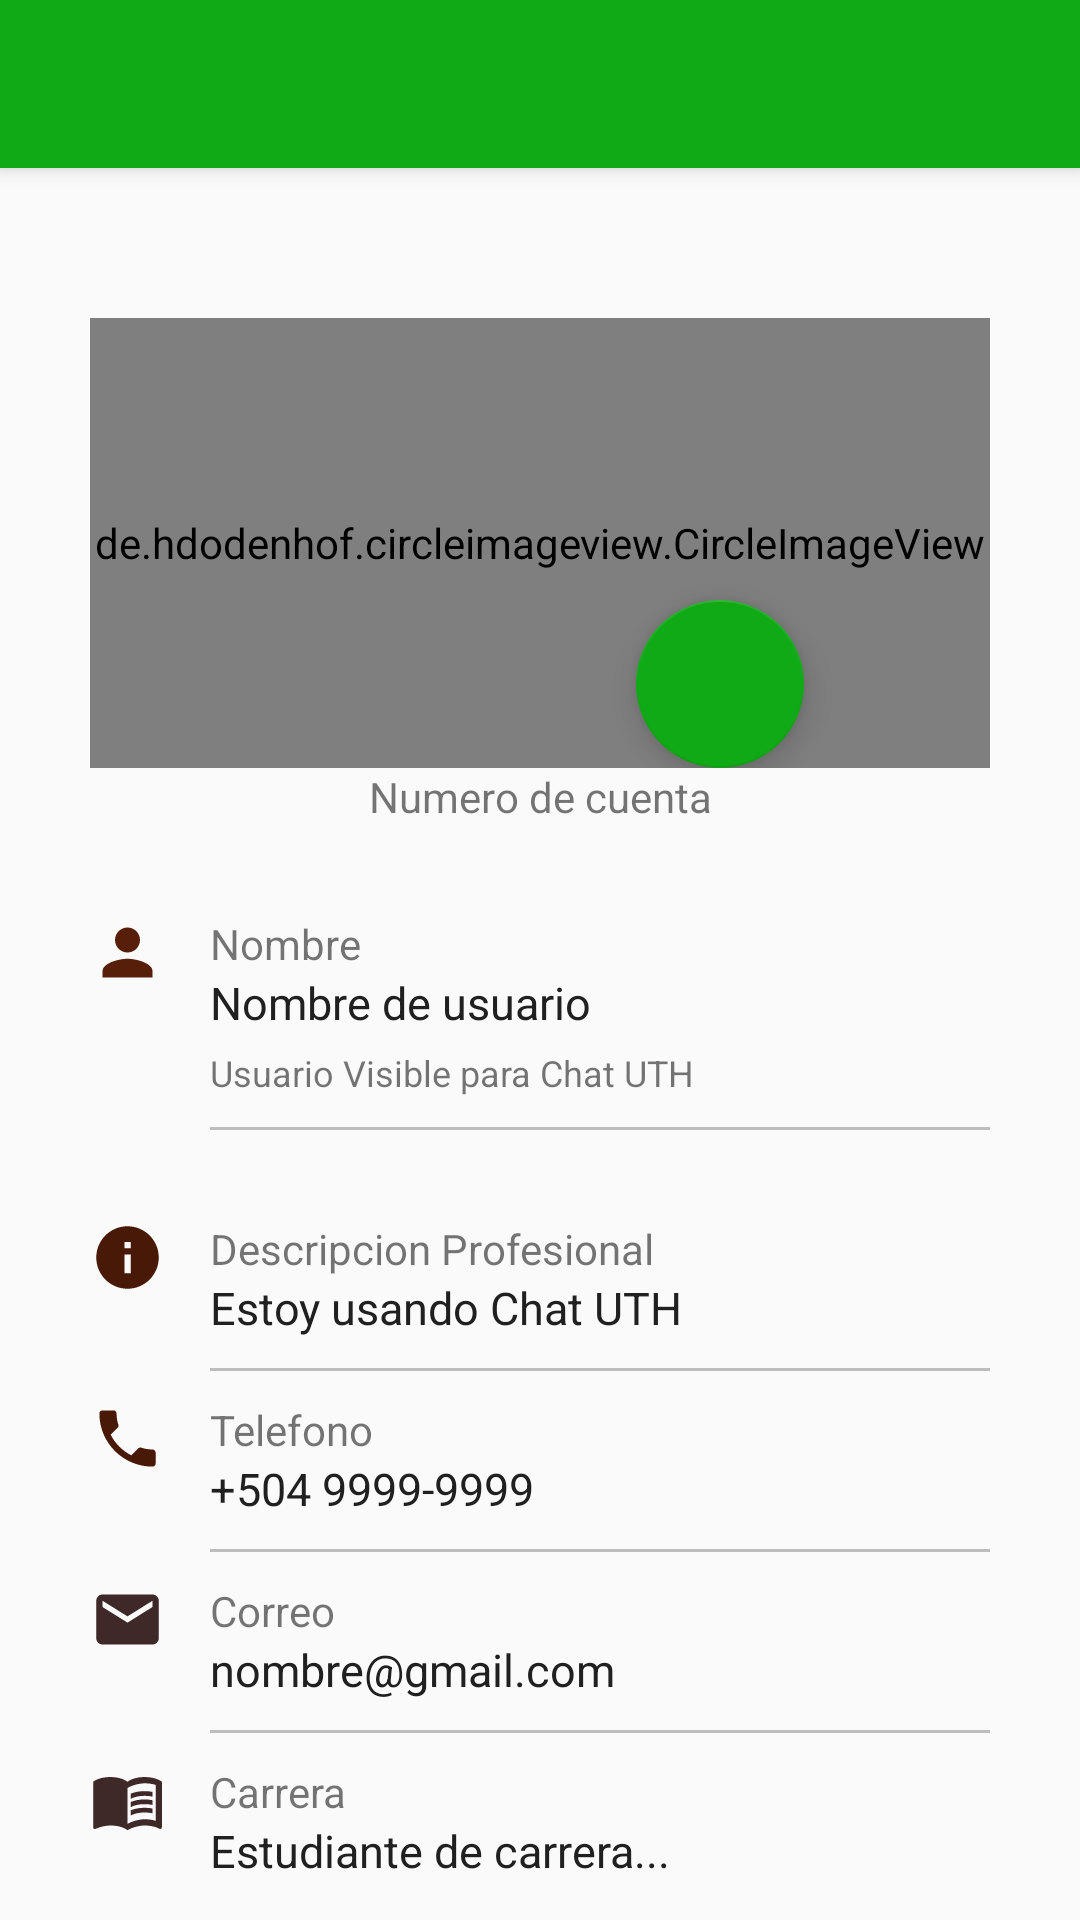

Screen size 1080*1920. Icon name, then its box in pixels as [x1=x1, y1=y1, x2=x2, y2=y2]:
email: [x1=96, y1=1594, x2=159, y2=1645]
info brown: [x1=96, y1=1226, x2=159, y2=1289]
person brown: [x1=102, y1=927, x2=153, y2=978]
phone brown: [x1=99, y1=1410, x2=156, y2=1467]
